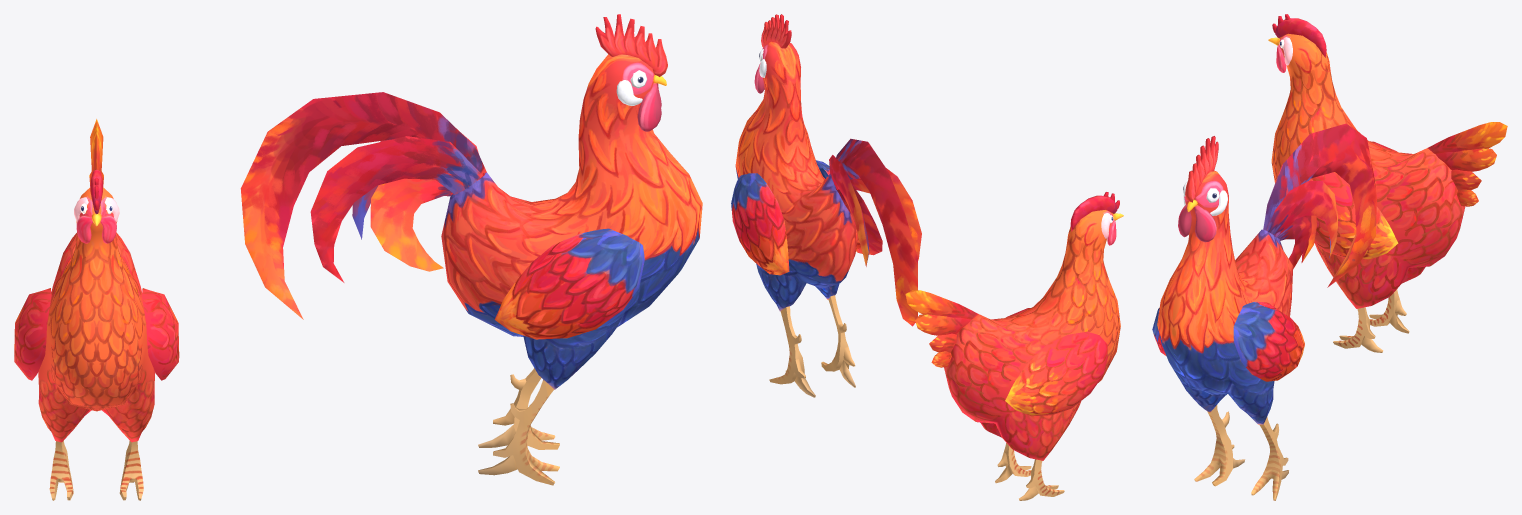
Rendered from rooster-sf.glb.
The picture shows the model from 3 angles, left to right: view 1: azimuth 30°, elevation 25°; view 2: azimuth 150°, elevation 25°; view 3: azimuth 270°, elevation 25°; orthographic projection. The views are drawn at different scales.
Visible parts, largest first — view 1: Object_2; view 2: Object_2; view 3: Object_2.
Part boxes in pixels (left/top/right/bottom): Object_2: left=14, top=14, right=702, bottom=500; Object_2: left=731, top=14, right=1123, bottom=500; Object_2: left=1152, top=14, right=1507, bottom=500.
Size of the model in its own units: 67.5 by 50.31 by 43.42.
1 material, 1 textured.
